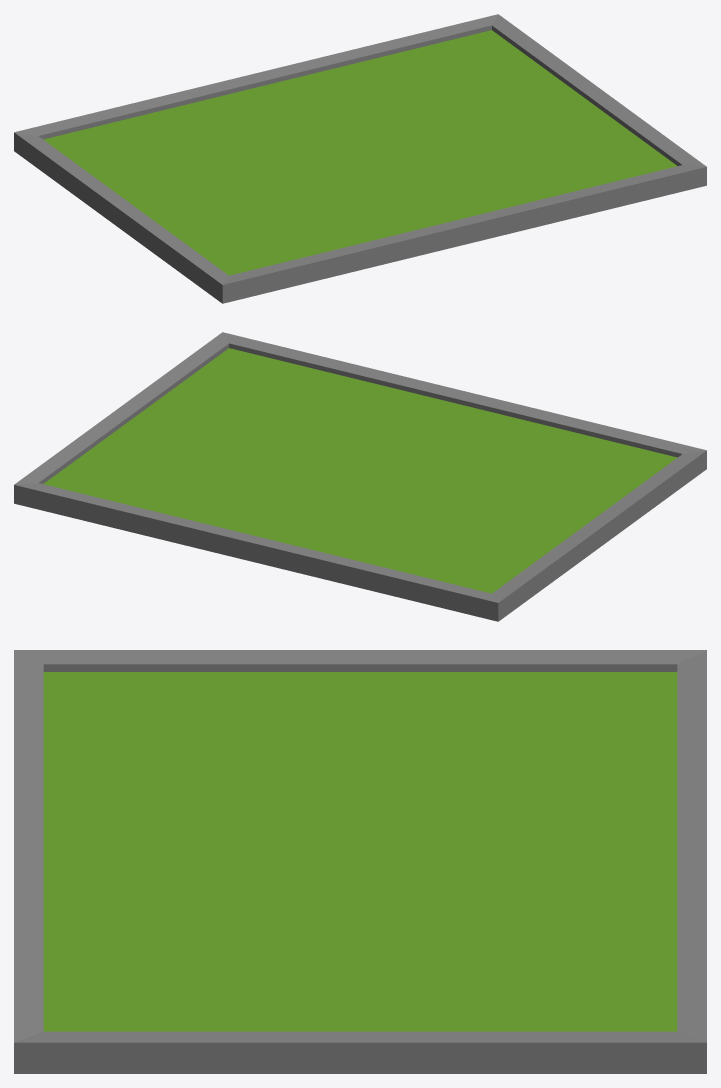
File: Park1.fbx
The picture shows the model from 3 angles, top to bottom: view 1: azimuth 30°, elevation 25°; view 2: azimuth 150°, elevation 25°; view 3: azimuth 270°, elevation 25°; orthographic projection. The views are drawn at different scales.
Parts seen in each view (by area): view 1: Park1; view 2: Park1; view 3: Park1.
Boxes of the visible parts, x1,y1,x2,y2 form: Park1: (14, 14, 706, 303); Park1: (14, 332, 706, 621); Park1: (14, 650, 706, 1073).
Bounding box in the file's own units: 469 × 17.41 × 350.
